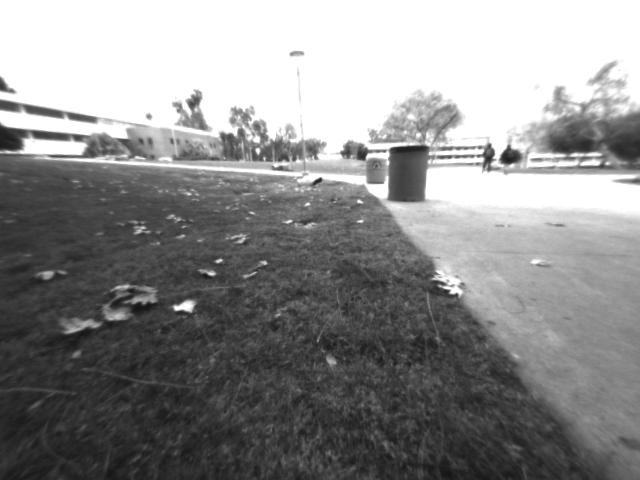trashcan: (390, 146, 424, 206), (367, 154, 389, 189)
